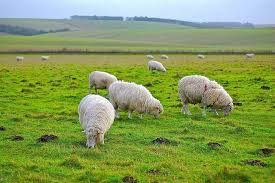sheep: (174, 74, 233, 122), (106, 79, 168, 117), (75, 92, 117, 147), (86, 67, 121, 89), (147, 58, 168, 78), (13, 54, 27, 64), (244, 50, 256, 61), (143, 52, 155, 62), (37, 54, 52, 62), (158, 50, 168, 61), (197, 52, 207, 59)
